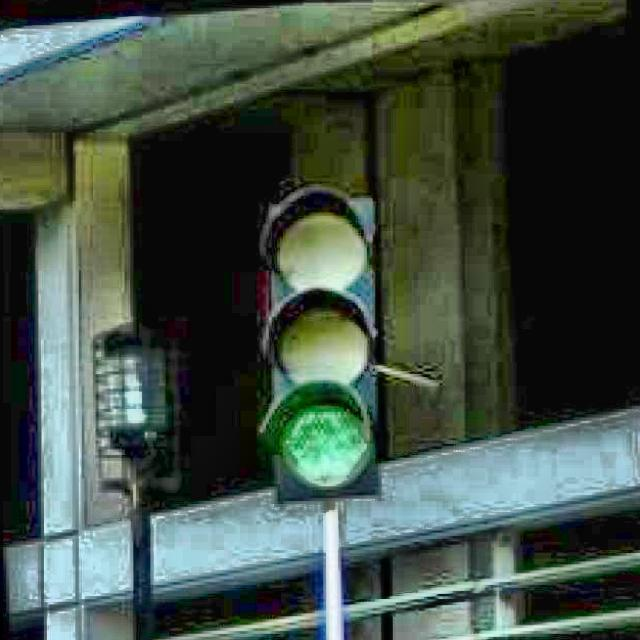green: (272, 196, 371, 505)
